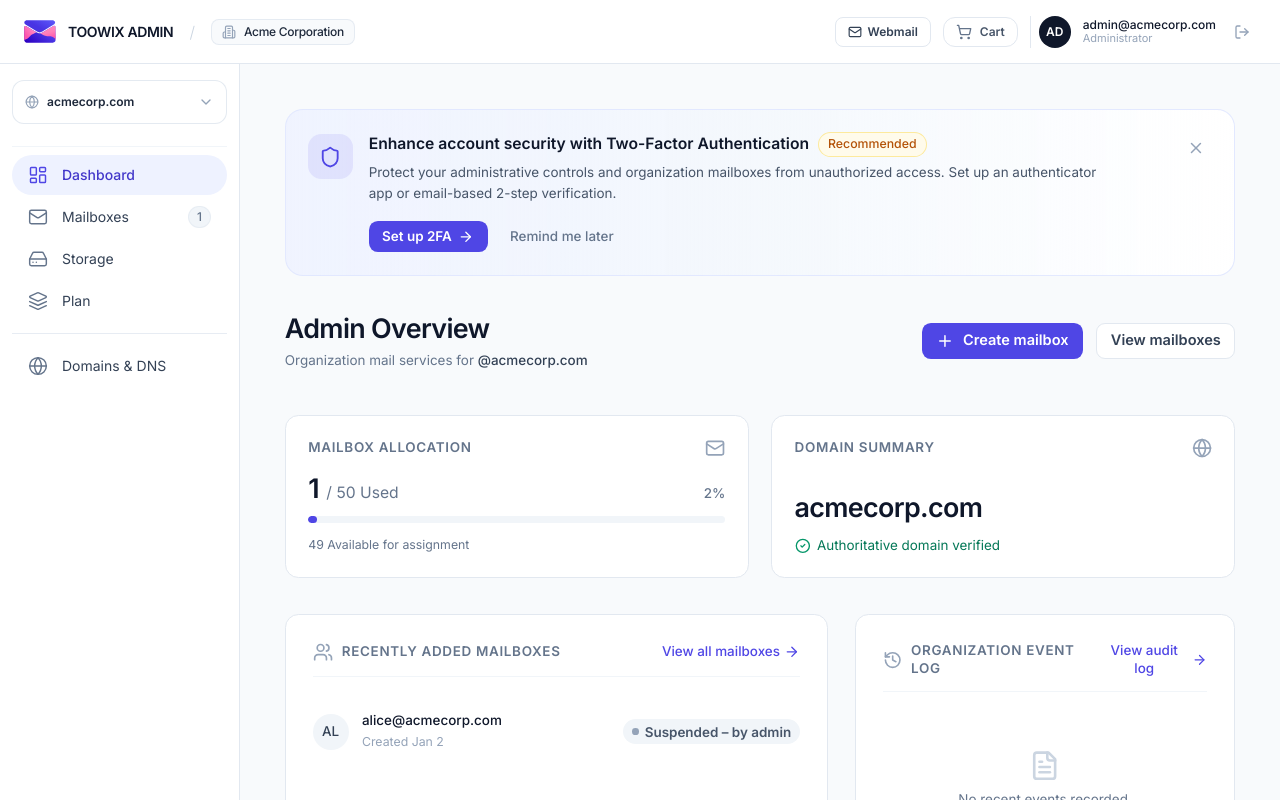
Test: TenantAdminDashboard Component › allows reactivating a suspended mailbox via three-dots menu
Expected: the heading "Admin Overview" is shown, [285,312,490,344]
Click the button "View all mailboxes" at (731, 652), box [662,643,800,661]
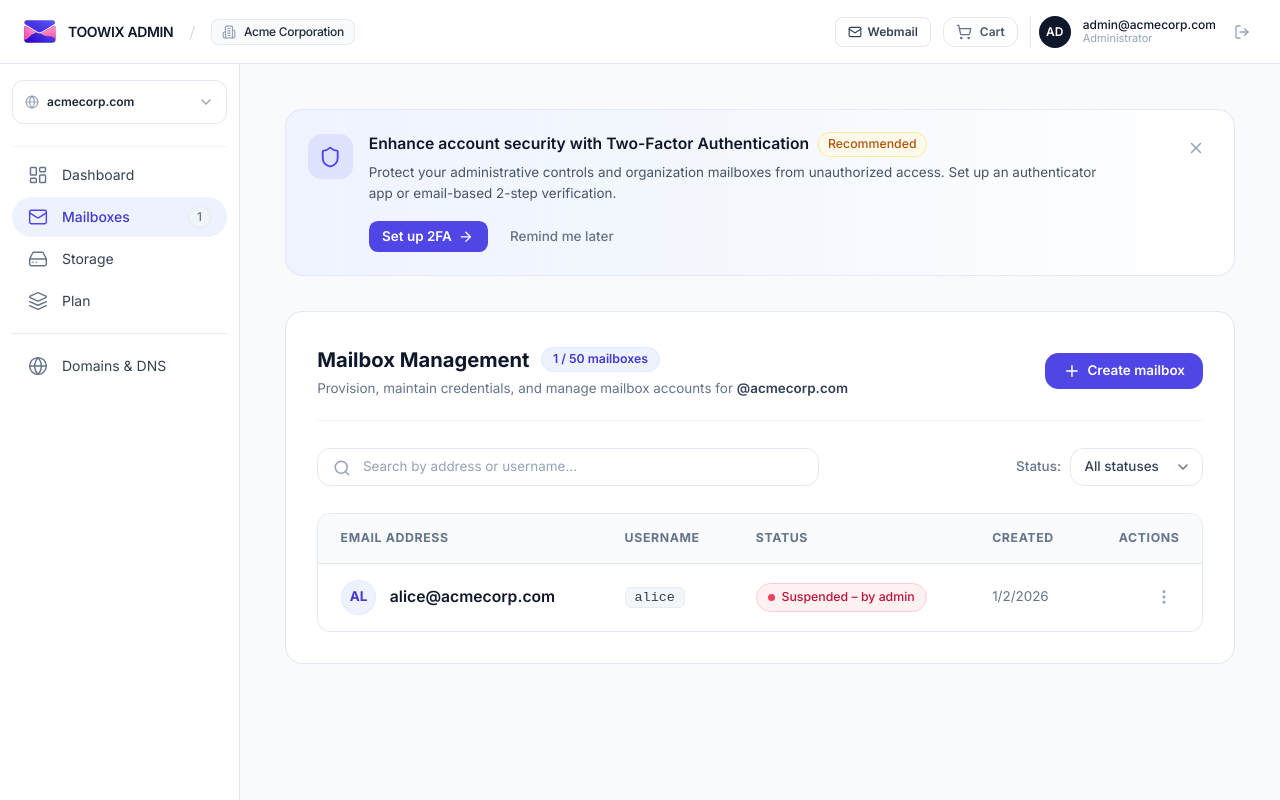
Note: Find three-dots actions button
Click the button named "mailbox actions" at (1164, 597), box [1148,582,1179,613]
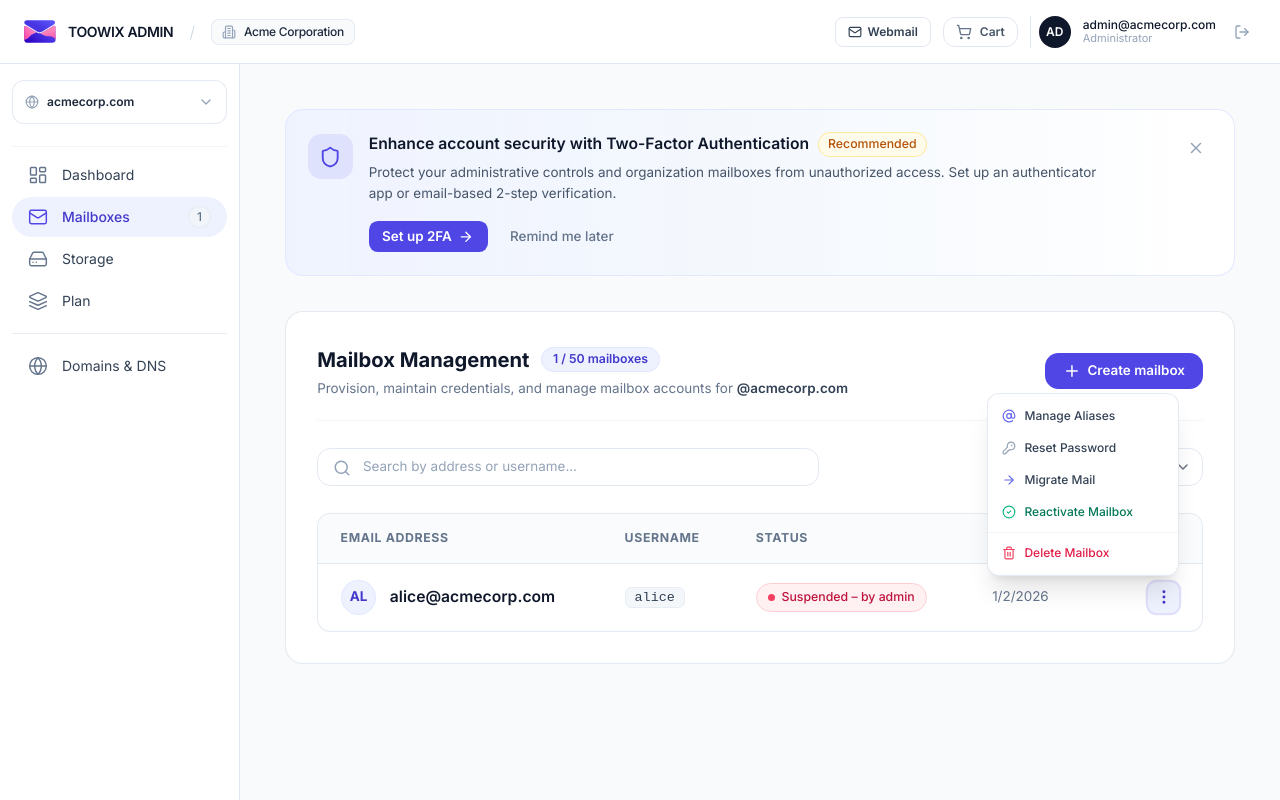
Note: Click Reactivate Mailbox from menu
Click the button "Reactivate Mailbox" at (1084, 512), box [988,496,1178,528]
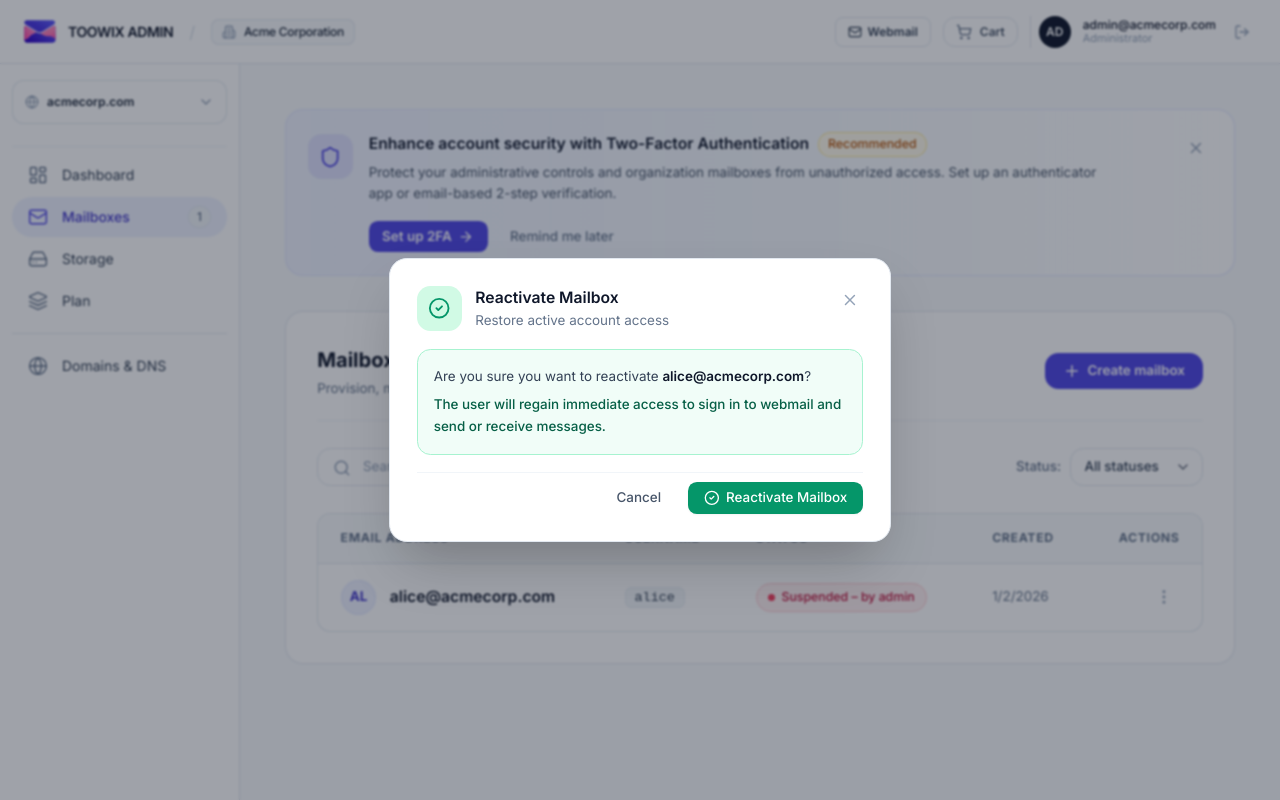
Now the dialog is shown
Now the heading "Reactivate Mailbox" is shown, box [475,288,619,307]
Now the text "alice@acmecorp.com" is shown, box [662,368,804,384]
Note: Confirm reactivate
Click the button "Reactivate Mailbox" at (775, 498), box [688,482,863,514]
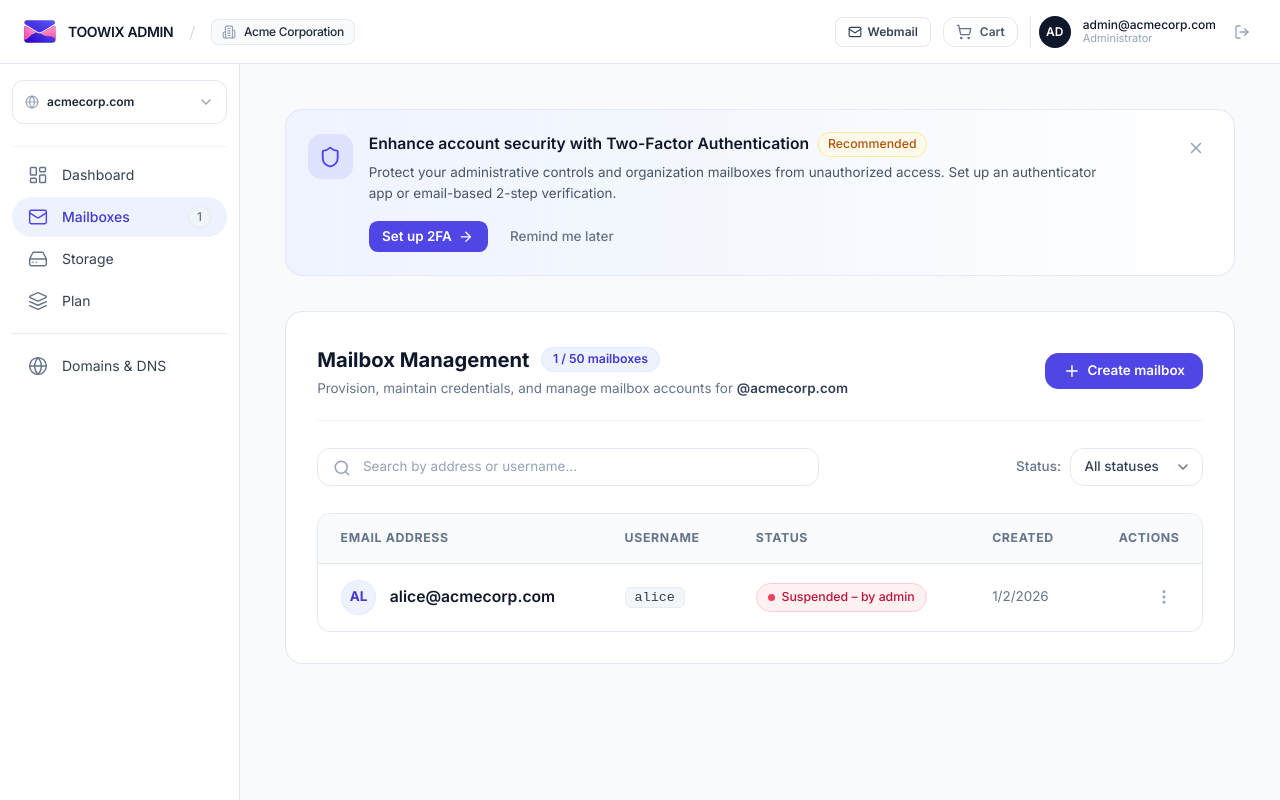
Now the dialog is gone
